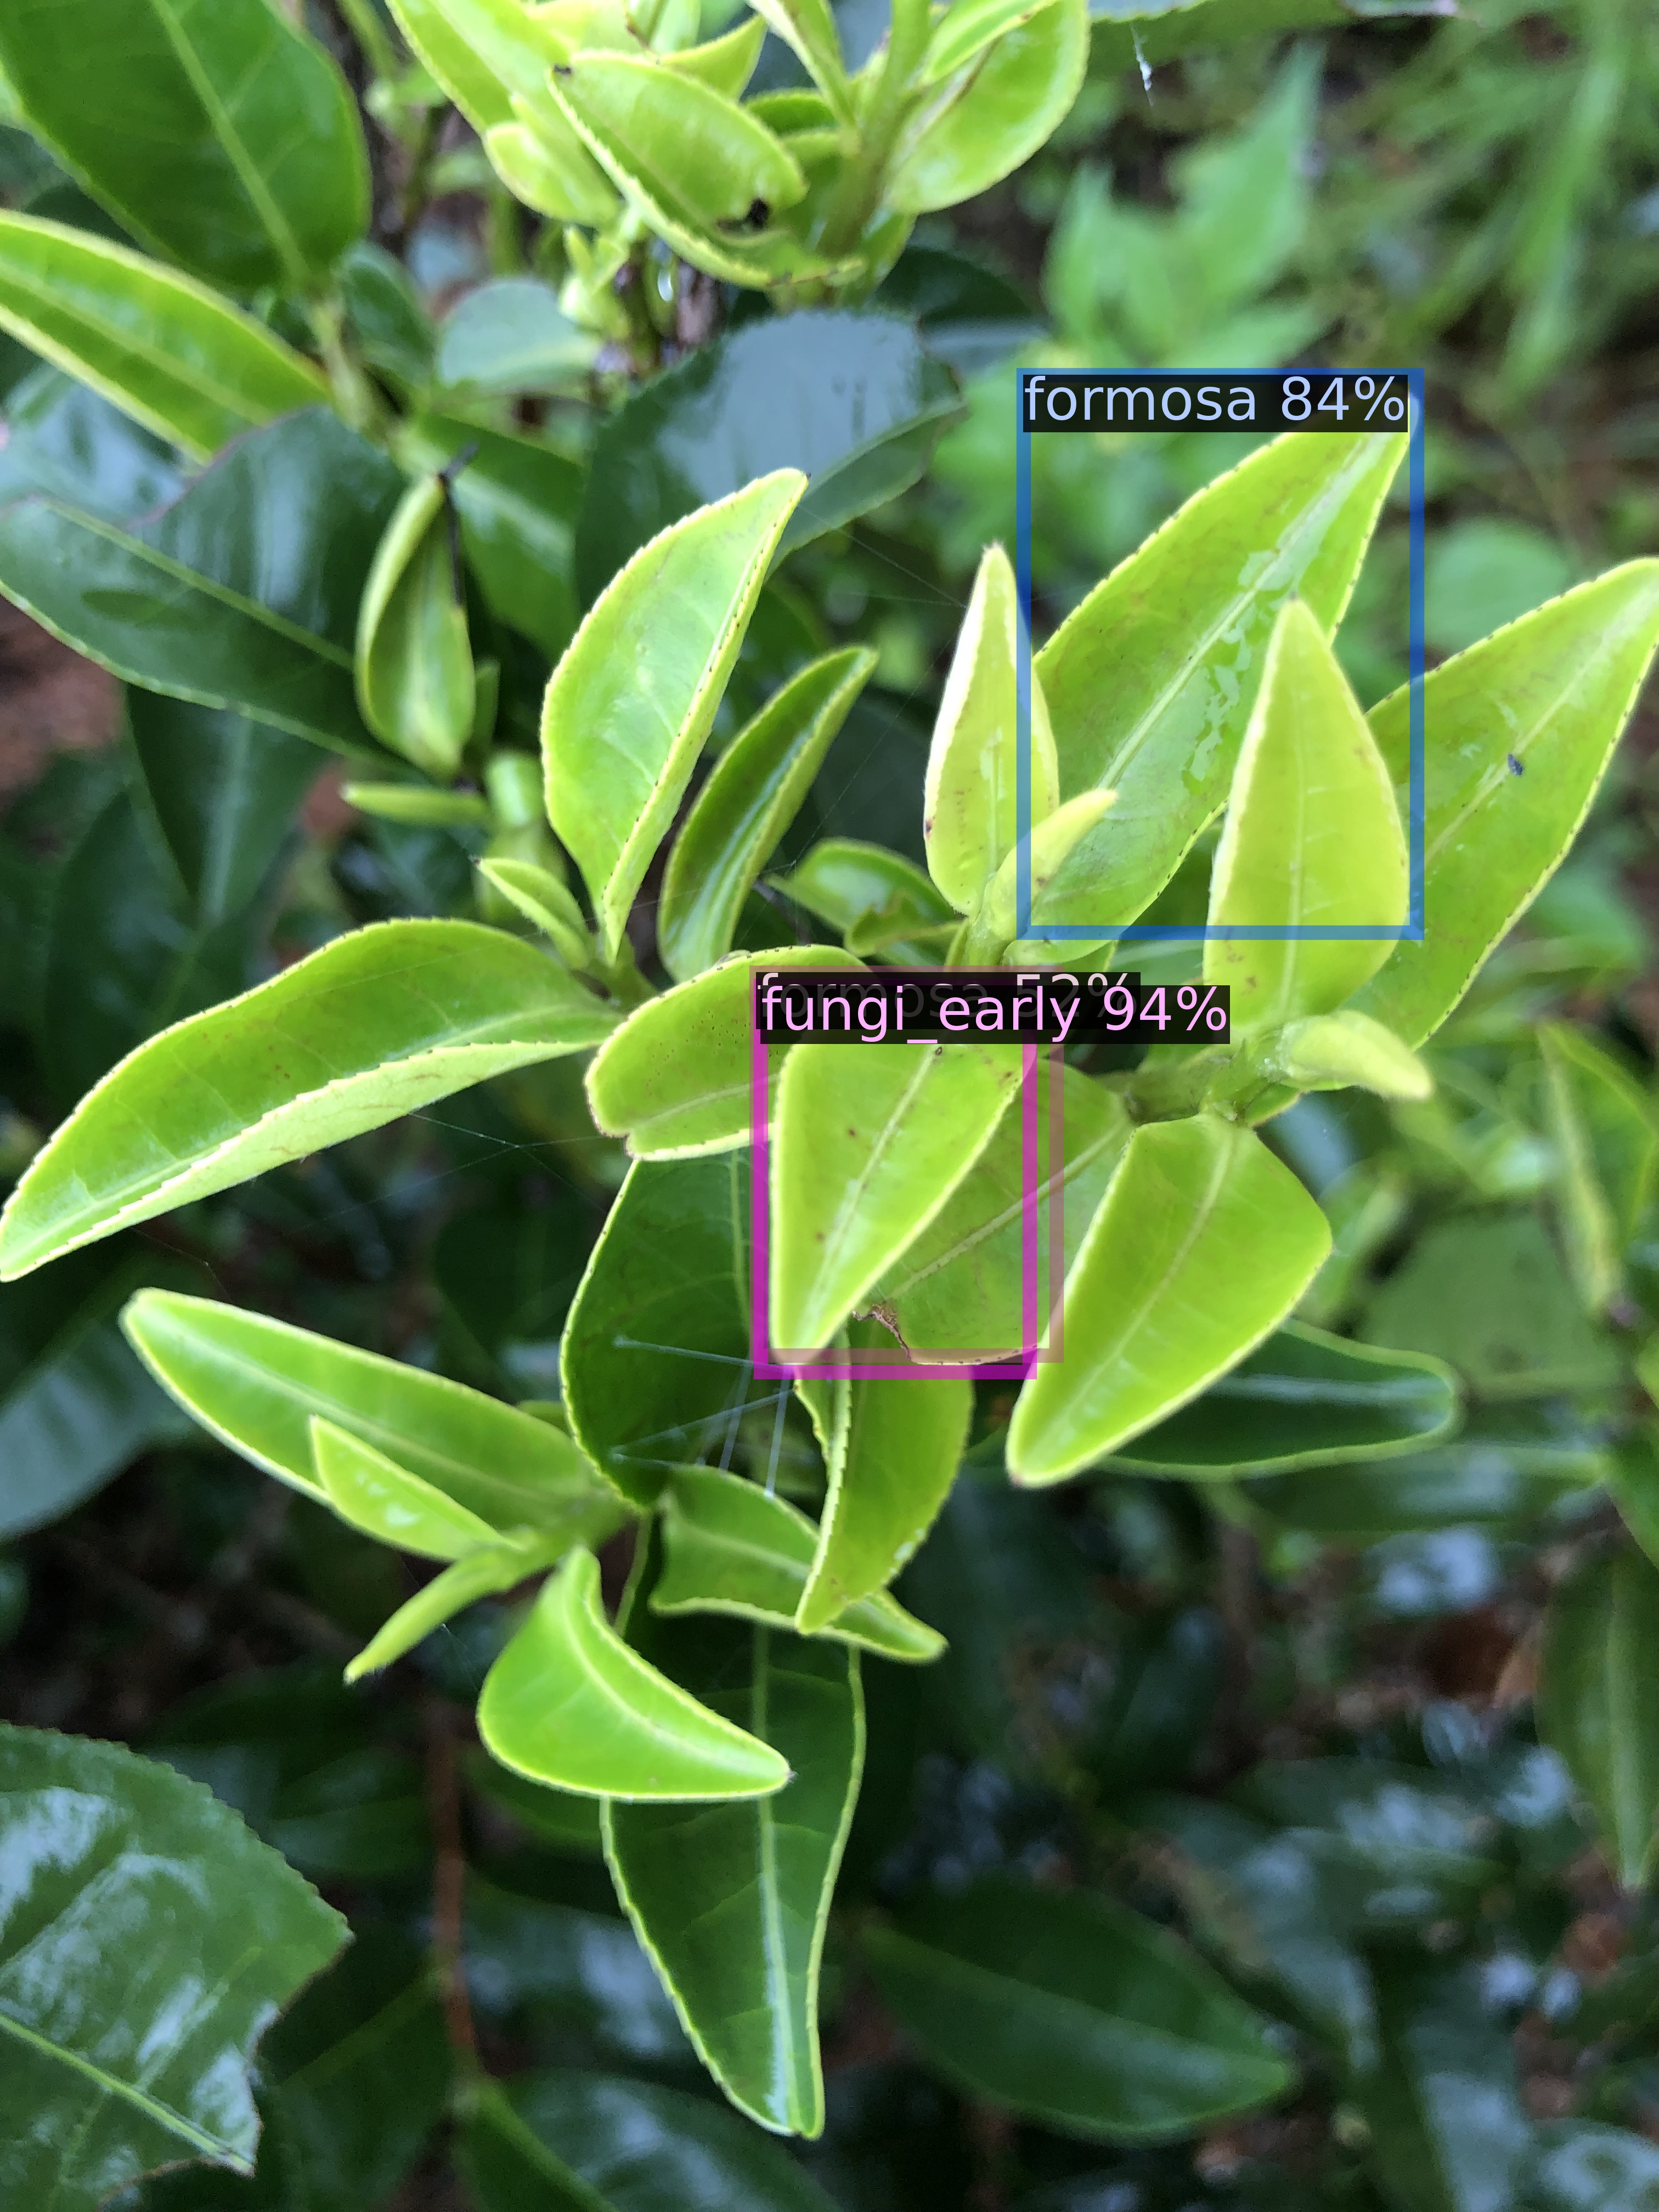formosa: (1023, 374, 1417, 932), (756, 972, 1056, 1355)
fungi_early: (762, 986, 1030, 1372)
